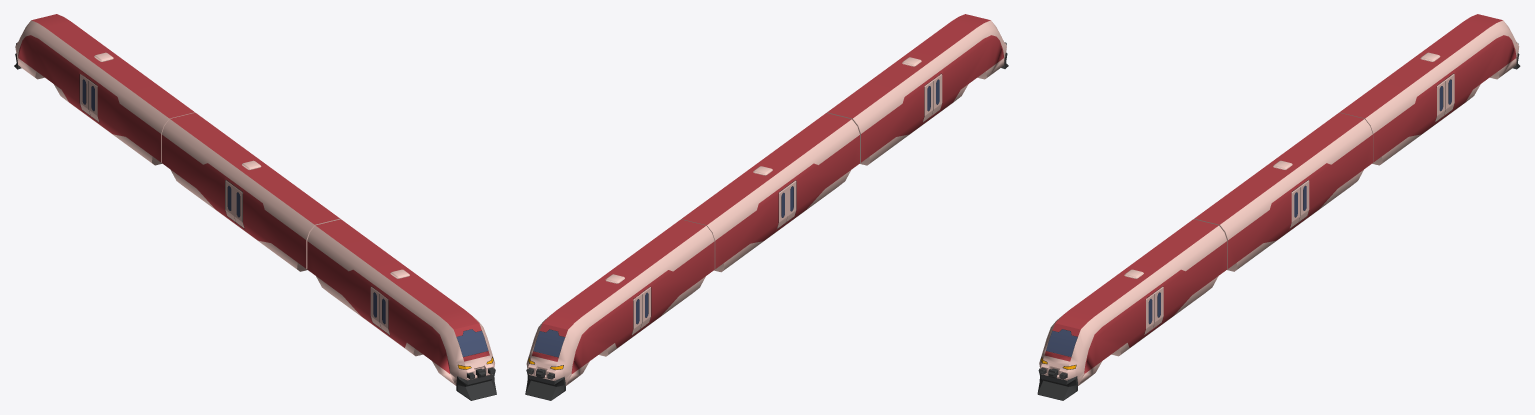
Rendered from SM_Metro.fbx.
3 renders of one model, left to right at view 1: azimuth 30°, elevation 25°; view 2: azimuth 150°, elevation 25°; view 3: azimuth 330°, elevation 25°, orthographic.
Parts seen in each view (by area): view 1: Box009; view 2: Box009; view 3: Box009.
Part boxes in pixels (x1,y1,x2,y2): Box009: (14,14,496,400); Box009: (525,14,1008,400); Box009: (1037,14,1520,400).
Size of the model in its own units: 126 by 181 by 2361.
